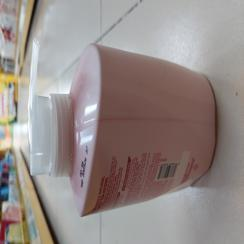sunsilk pink: (27, 36, 218, 219)
